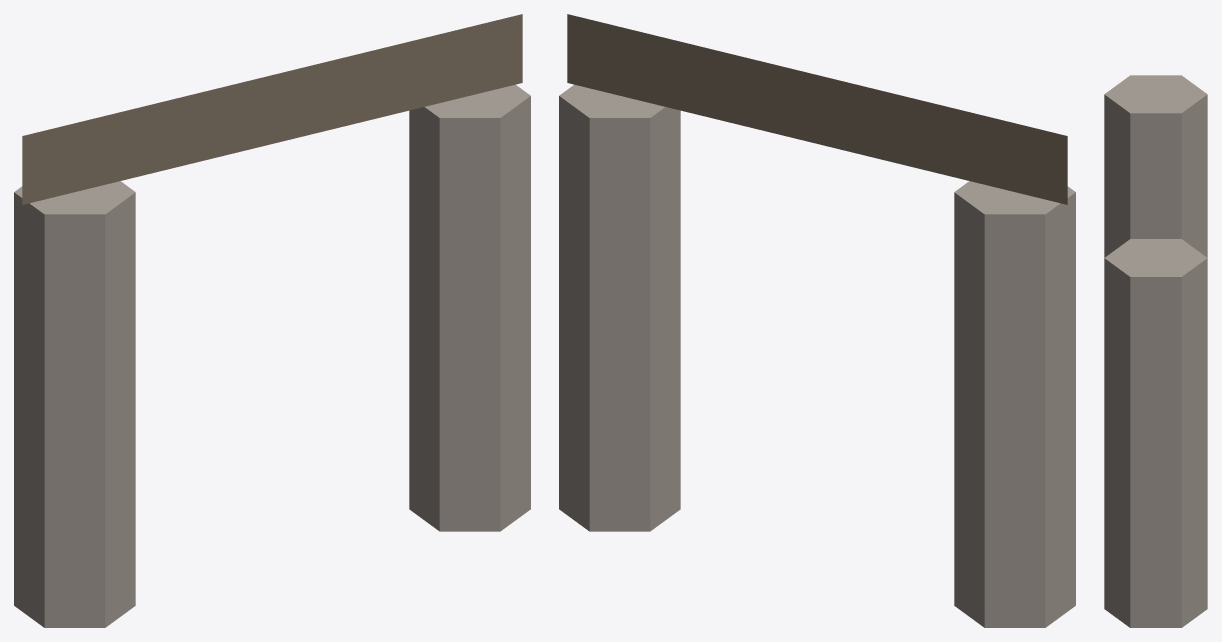
Rendered from lqv_lowpoly_gate.glb.
The picture shows the model from 3 angles, left to right: view 1: azimuth 30°, elevation 25°; view 2: azimuth 150°, elevation 25°; view 3: azimuth 270°, elevation 25°; orthographic projection. The views are drawn at different scales.
Parts seen in each view (by area): view 1: Gate_pillar_-1.5, Gate_pillar_1.5, Gate_lintel; view 2: Gate_pillar_-1.5, Gate_pillar_1.5, Gate_lintel; view 3: Gate_pillar_1.5, Gate_pillar_-1.5.
Part boxes in pixels (<box>): Gate_pillar_-1.5: <box>14,181,135,627</box>; Gate_pillar_1.5: <box>409,84,530,531</box>; Gate_lintel: <box>22,14,522,204</box>; Gate_pillar_-1.5: <box>954,181,1075,627</box>; Gate_pillar_1.5: <box>559,84,680,531</box>; Gate_lintel: <box>567,14,1067,204</box>; Gate_pillar_1.5: <box>1104,239,1207,627</box>; Gate_pillar_-1.5: <box>1104,75,1207,257</box>.
Bounding box in the file's own units: 3.8 × 3.5 × 0.8.
